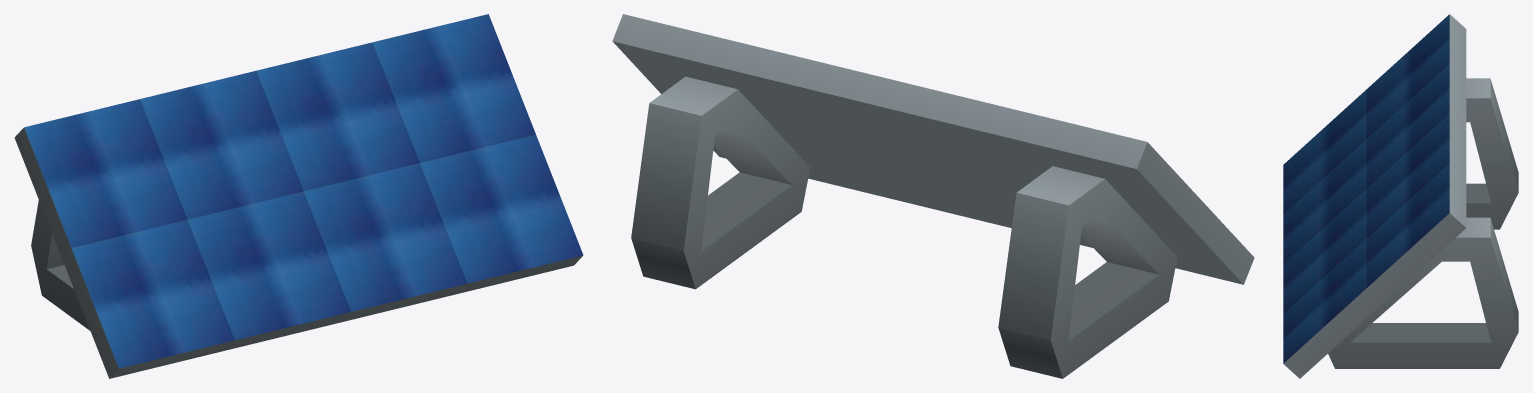
File: kay-painel-solar.gltf
The picture shows the model from 3 angles, left to right: view 1: azimuth 30°, elevation 25°; view 2: azimuth 150°, elevation 25°; view 3: azimuth 270°, elevation 25°; orthographic projection. The views are drawn at different scales.
Visible parts, largest first — view 1: solarpanel; view 2: solarpanel; view 3: solarpanel.
Part boxes in pixels (bbox=[...]): solarpanel: bbox=[14, 14, 583, 378]; solarpanel: bbox=[612, 14, 1254, 378]; solarpanel: bbox=[1283, 14, 1518, 378].
Bounding box in the file's own units: 2.34 × 0.9644 × 1.17.
1 material, 1 textured.
